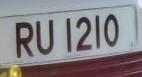0: (102, 10, 122, 52)
1: (60, 13, 76, 59), (92, 9, 104, 56)
2: (74, 10, 94, 58)
R: (11, 17, 39, 63)
U: (35, 16, 57, 60)
